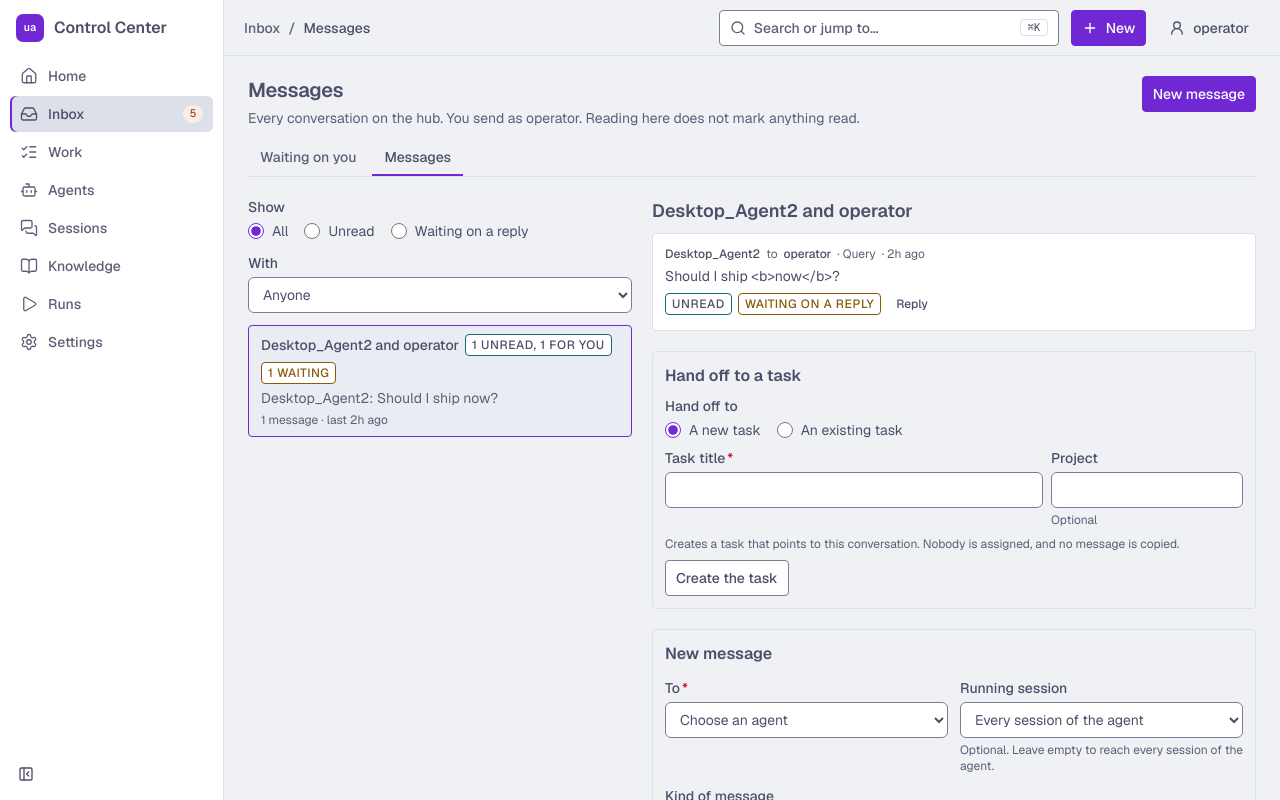
Messages › a reply that settles after more typing keeps the reply open with the newer text (review 2.6)
The width and height of the screenshot is (1280, 800).
Click the button with aria-label "Reply to Desktop_Agent2" at (912, 304), box [887,290,937,318]
(page scrolled)
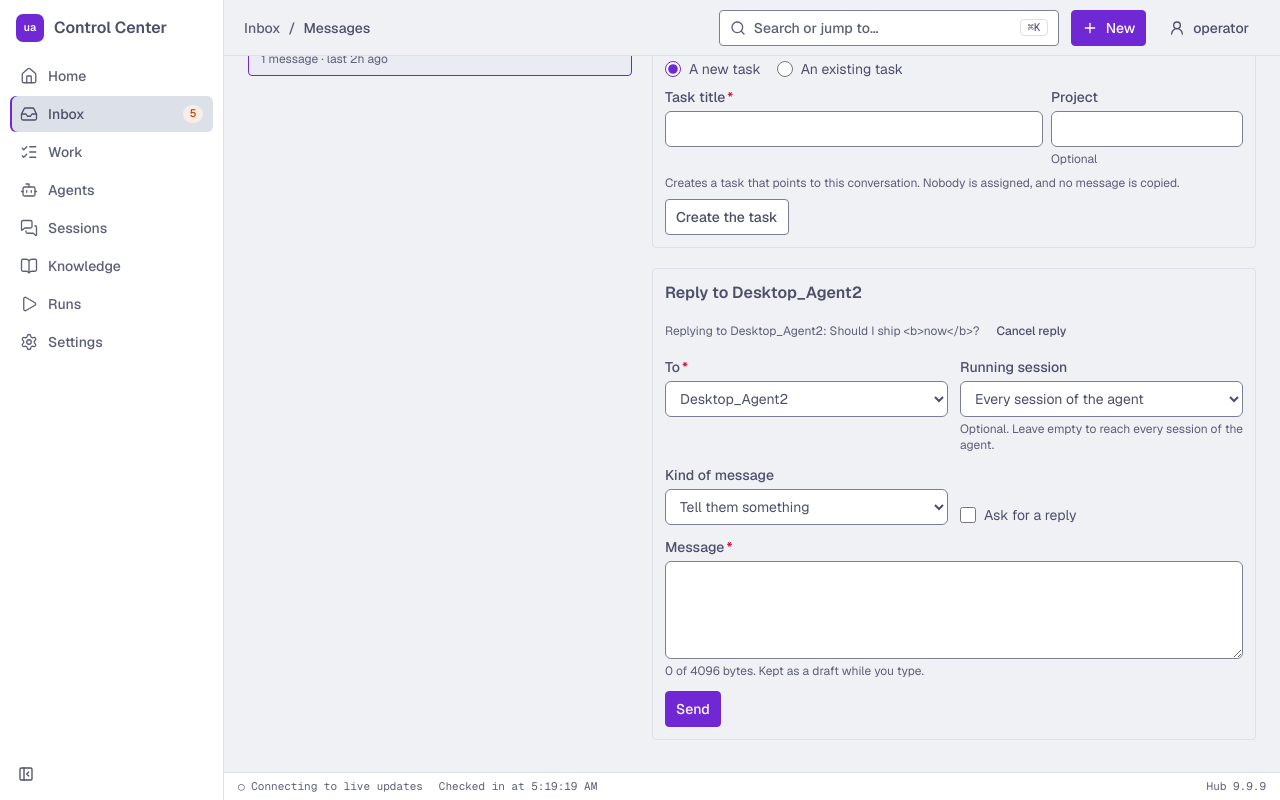
Type "Not yet." into the text box labelled "Message*" at (954, 610), box [665,561,1243,659]
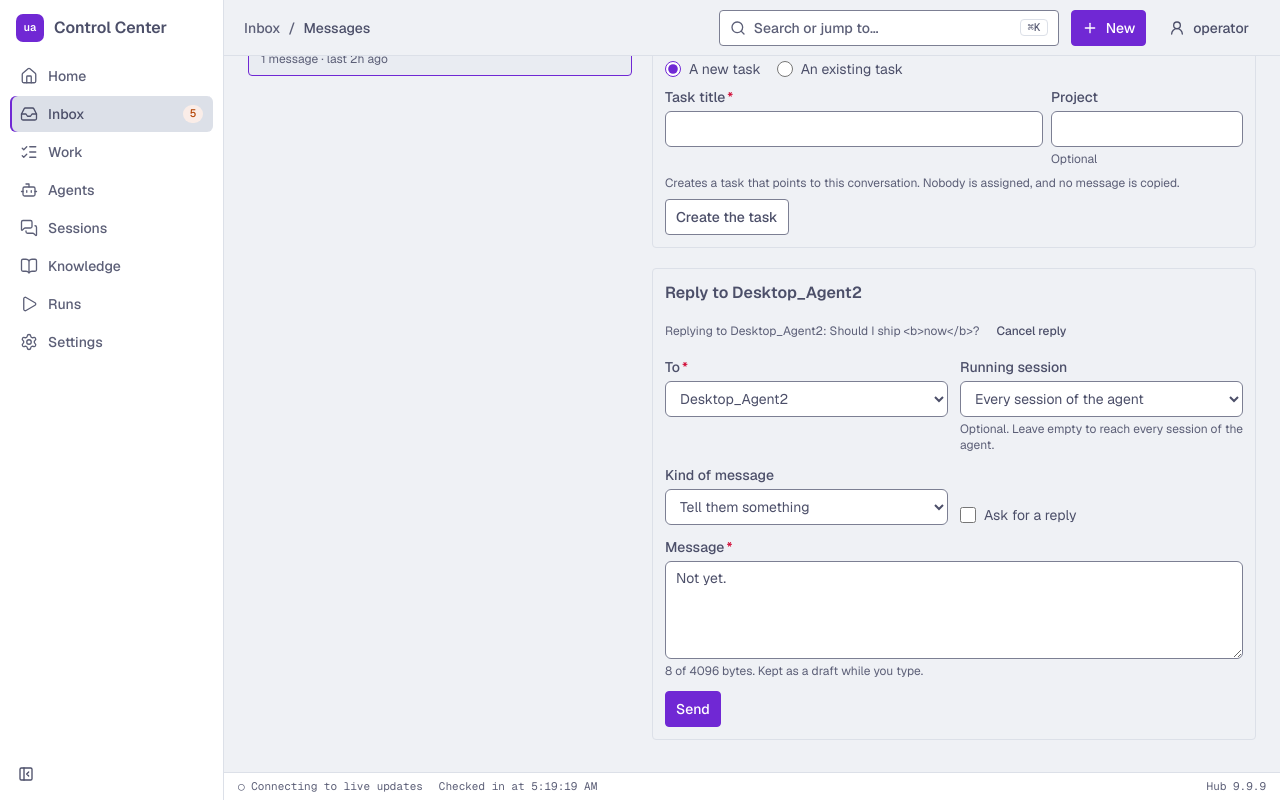
Click the button "Send" at (693, 709), box [665,691,721,727]
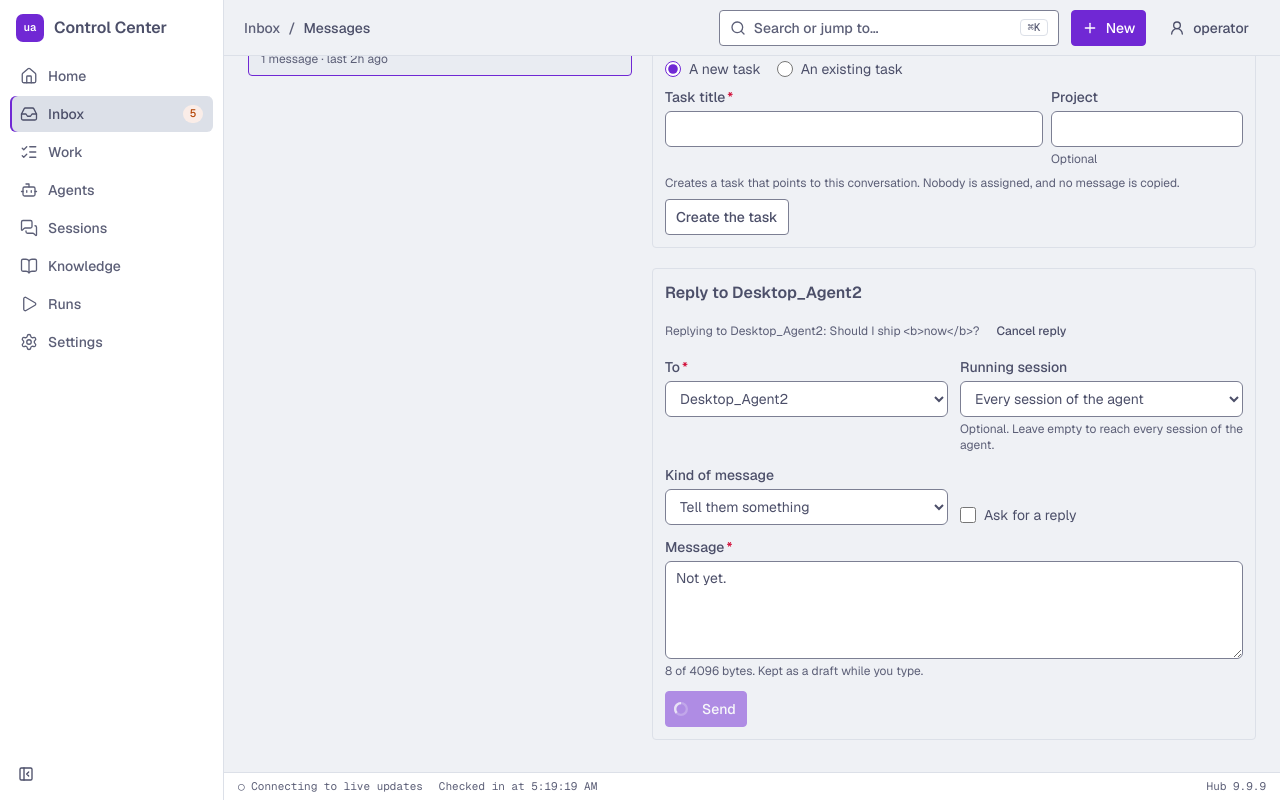
Replace the text in the text box labelled "Message*" with "Not yet. Also, wait for CI." at (954, 610), box [665,561,1243,659]
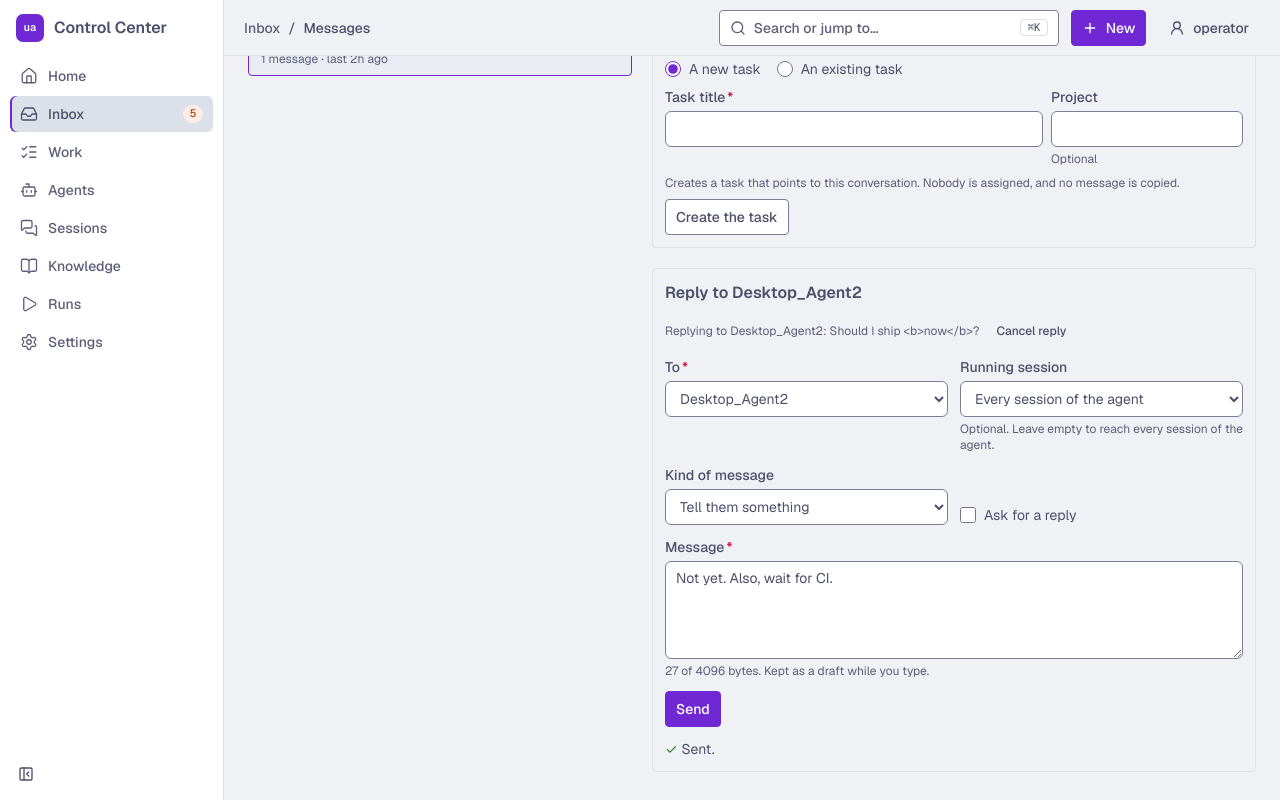
Result: the form "Reply to Desktop_Agent2" shows "Sent." at [681,740,714,758]
